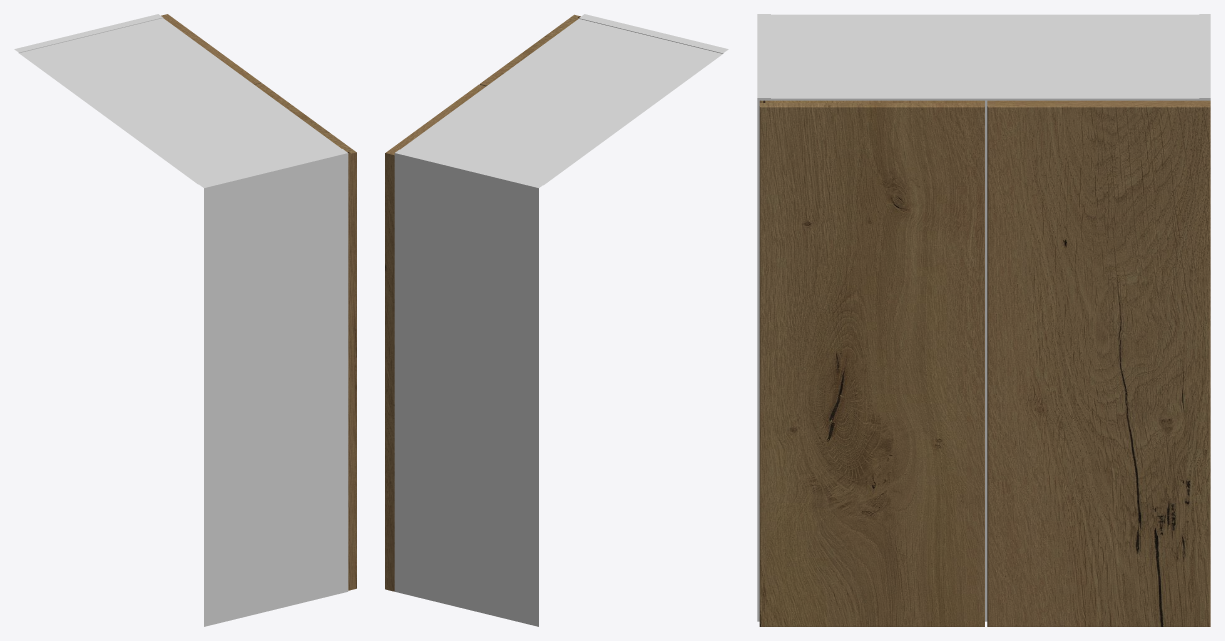
File: gornji_ugradni_aspirator_bez_rucica.glb
The picture shows the model from 3 angles, left to right: view 1: azimuth 30°, elevation 25°; view 2: azimuth 150°, elevation 25°; view 3: azimuth 270°, elevation 25°; orthographic projection. The views are drawn at different scales.
Visible parts, largest first — view 1: Group2; view 2: Group2; view 3: Group2.
Part boxes in pixels (<box>): Group2: <box>14,14,356,626</box>; Group2: <box>385,14,728,626</box>; Group2: <box>757,14,1210,626</box>.
Size of the model in its own units: 280 by 761 by 597.
3 materials, 1 textured.
